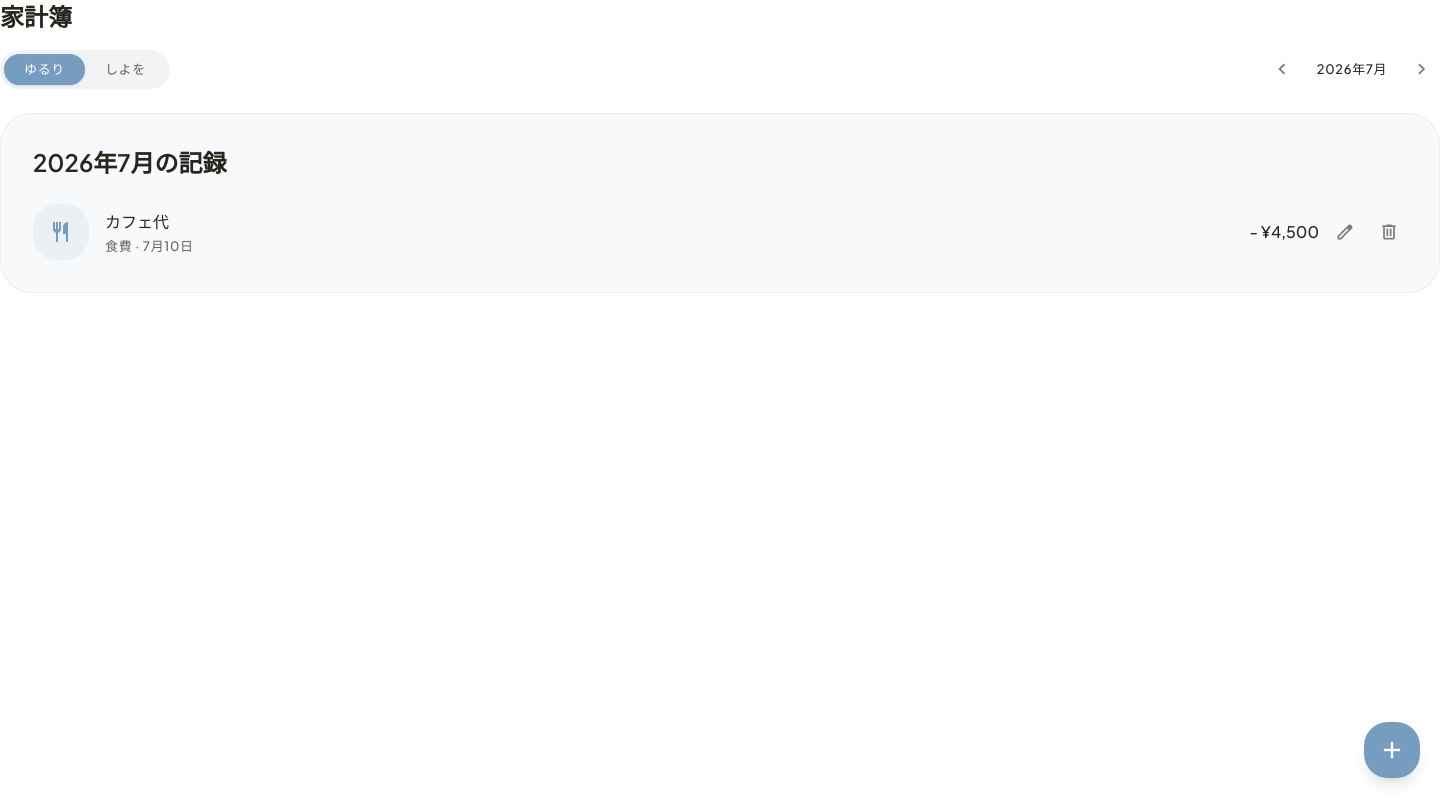
Scenario: LedgerPage 統合 › 記録をタップすると詳細（在り処含む）が出る（#105）
Click the button with aria-label "カフェ代 の詳細" at (61, 232), box [33,204,1234,260]
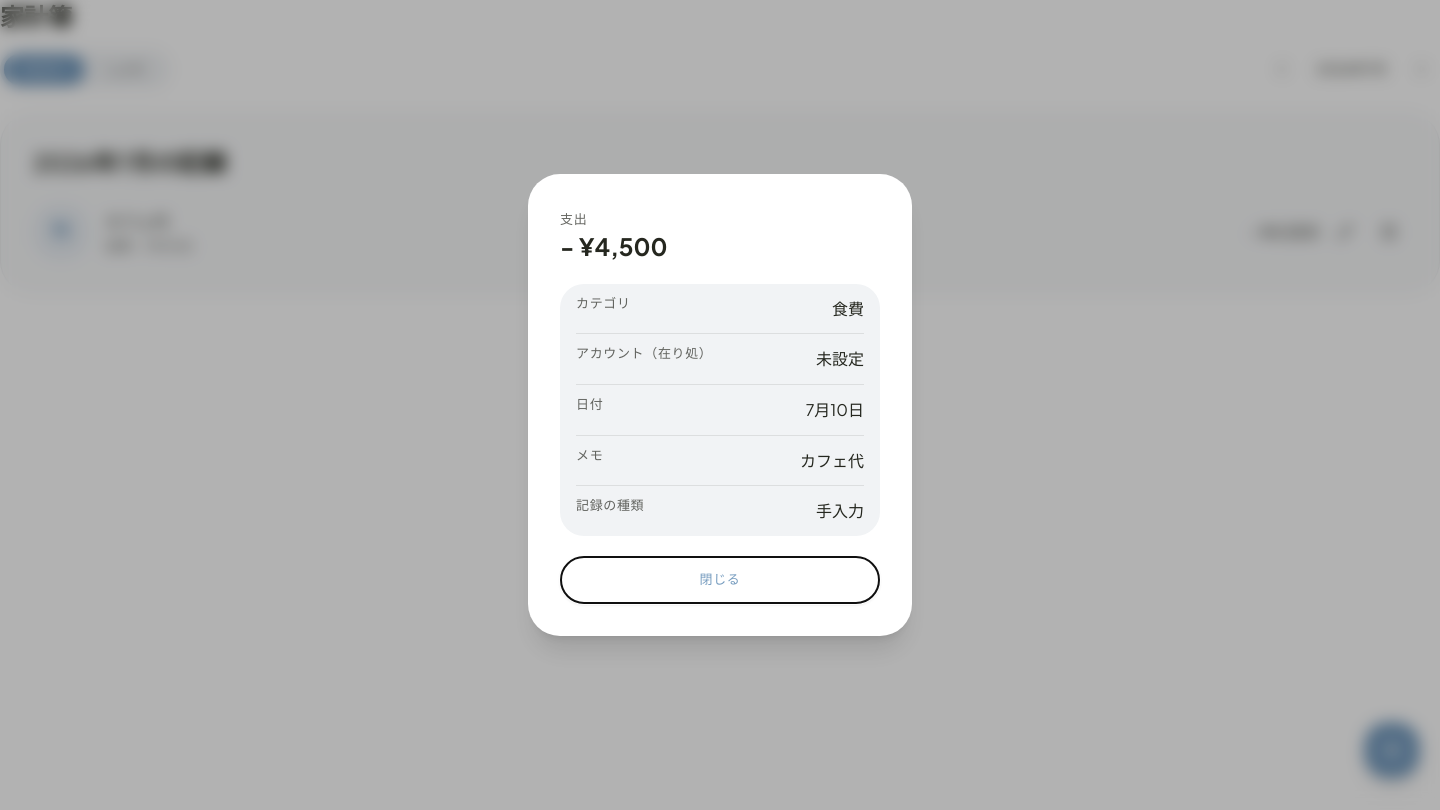
Expected: the text "食費" is shown, [832,296,864,321]
Expected: the text "カフェ代" is shown, [800,448,864,473]
Expected: the text "未設定" is shown, [816,346,864,372]
